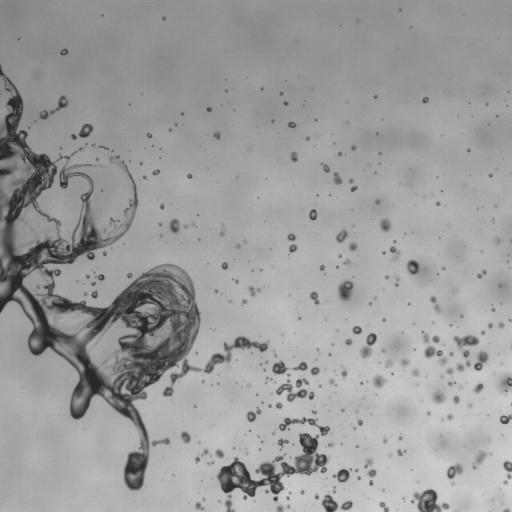droplet: (275, 376, 314, 401), (453, 334, 479, 357), (338, 279, 353, 301), (496, 373, 511, 394), (474, 351, 488, 370), (446, 463, 462, 479), (272, 361, 289, 376), (333, 468, 351, 482), (246, 407, 261, 422), (372, 374, 386, 388), (406, 260, 419, 274), (432, 390, 445, 404), (389, 246, 400, 260), (456, 360, 470, 371), (169, 218, 179, 233), (336, 230, 347, 243), (380, 219, 391, 231), (248, 286, 260, 297), (277, 438, 288, 450), (292, 362, 307, 370), (180, 431, 190, 443), (310, 291, 319, 304), (473, 382, 483, 393), (500, 414, 511, 424), (333, 172, 342, 184), (400, 358, 409, 368), (364, 458, 373, 468), (366, 468, 376, 477), (310, 366, 319, 375), (309, 209, 316, 220), (349, 242, 357, 251), (352, 326, 361, 334), (215, 449, 223, 458), (290, 152, 297, 162), (195, 502, 203, 510), (322, 164, 329, 172), (385, 359, 392, 367), (446, 367, 453, 375), (412, 368, 419, 376), (221, 262, 228, 269), (345, 338, 352, 345), (275, 402, 282, 409), (201, 449, 208, 456), (96, 274, 104, 280), (91, 290, 97, 298), (453, 395, 459, 403), (397, 449, 405, 455), (60, 49, 67, 55), (213, 132, 220, 138), (152, 169, 159, 175), (494, 237, 500, 244), (328, 378, 335, 384), (446, 414, 453, 420), (447, 381, 455, 386), (241, 299, 247, 305), (498, 322, 504, 328), (288, 122, 295, 127), (422, 97, 428, 102), (350, 186, 356, 191), (344, 259, 350, 264), (357, 419, 362, 425), (351, 145, 356, 150), (375, 199, 380, 204), (127, 273, 132, 278), (314, 494, 319, 499), (206, 107, 212, 111), (220, 230, 224, 236), (265, 377, 271, 381), (187, 174, 192, 178), (349, 178, 353, 183), (160, 204, 164, 209), (320, 265, 324, 270), (488, 323, 492, 328), (398, 435, 402, 440), (383, 437, 387, 442), (195, 457, 199, 462), (369, 480, 373, 485), (207, 462, 213, 465), (283, 101, 287, 105), (147, 133, 151, 137), (436, 201, 440, 205), (184, 224, 188, 228), (381, 348, 385, 352), (449, 352, 453, 356), (329, 442, 333, 446), (300, 490, 304, 494), (488, 174, 492, 177), (191, 223, 195, 226), (236, 244, 239, 248), (103, 251, 106, 255), (234, 279, 238, 282), (91, 282, 95, 285), (312, 410, 316, 413), (388, 453, 391, 457), (306, 137, 309, 140), (338, 152, 341, 155), (143, 176, 146, 179), (158, 222, 161, 225), (338, 254, 341, 257), (86, 274, 89, 277), (385, 275, 388, 278), (36, 285, 39, 288), (84, 293, 87, 296), (481, 331, 484, 334), (247, 384, 250, 387), (468, 404, 471, 407), (354, 469, 357, 472), (402, 497, 405, 500), (333, 488, 335, 492), (162, 17, 165, 19), (374, 95, 376, 98), (104, 147, 107, 149), (383, 251, 385, 254), (395, 283, 397, 286), (215, 289, 217, 292), (492, 308, 494, 311), (274, 353, 276, 356), (328, 353, 331, 355), (360, 382, 363, 384), (459, 385, 461, 388), (341, 409, 344, 411), (427, 412, 430, 414), (286, 497, 289, 499), (88, 164, 90, 166), (244, 240, 246, 242), (442, 267, 444, 269), (229, 300, 231, 302), (509, 319, 511, 321), (266, 361, 268, 363), (263, 369, 265, 371), (441, 418, 443, 420), (353, 427, 355, 429), (358, 477, 360, 479), (202, 498, 204, 500)
ligament: (0, 65, 268, 490), (216, 417, 330, 511), (410, 489, 449, 511), (422, 331, 447, 365), (39, 96, 68, 119), (321, 494, 352, 511), (360, 333, 377, 358), (71, 123, 93, 139), (472, 451, 491, 469), (502, 460, 511, 484), (287, 233, 297, 252), (430, 296, 440, 313), (276, 504, 290, 511), (379, 502, 389, 511), (341, 365, 347, 378), (477, 270, 486, 278), (503, 508, 511, 511), (510, 345, 511, 348), (454, 510, 457, 511)
